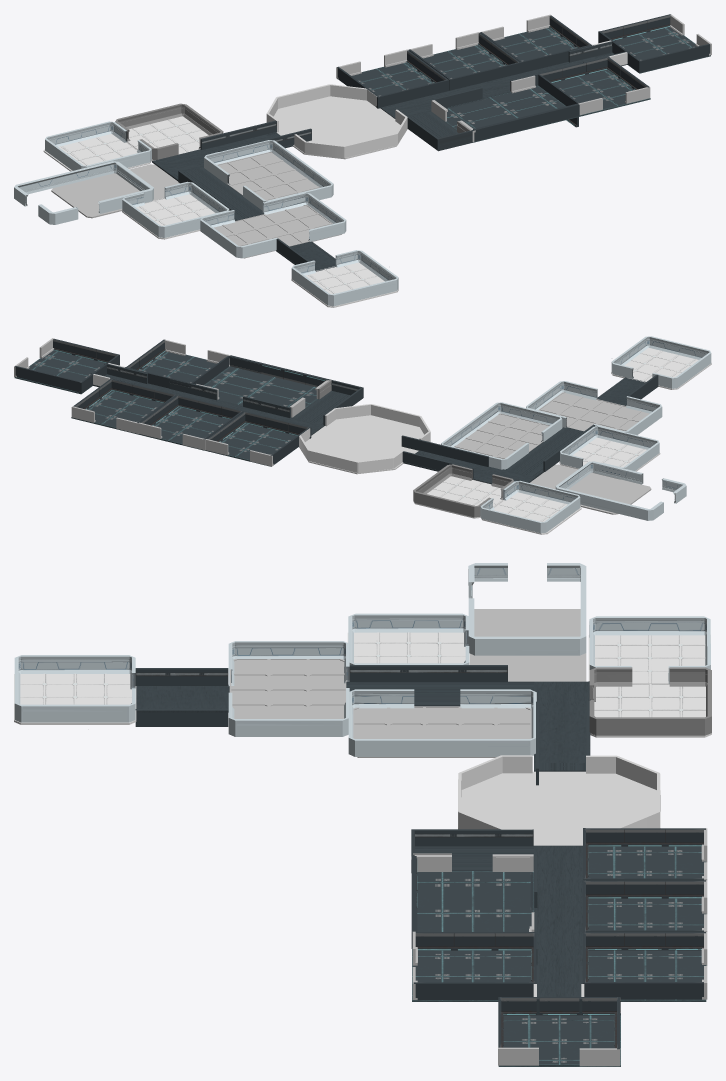
File: Level_02_Full.FBX
3 renders of one model, top to bottom at view 1: azimuth 30°, elevation 25°; view 2: azimuth 150°, elevation 25°; view 3: azimuth 270°, elevation 25°, orthographic. The views are drawn at different scales.
Parts seen in each view (by area): view 1: Box134, Box133, Labor_Wand_005, Labor_008, Labor_Boden_012, Box149, Labor_Boden_011, Labor_Boden_006, Flur_Boden_005, Flur_Boden_004, Labor_007, Box157 (+24 smaller); view 2: Box134, Box149, Box133, Labor_Wand_005, Labor_Boden_011, Labor_Boden_012, Flur_Boden_005, Labor_004, Labor_007, Labor_Boden_006, Box157, Labor_006 (+25 smaller); view 3: Box134, Flur_Boden_004, Box149, Flur_Boden_005, Labor_Boden_012, Labor_007, Labor_Boden_011, Labor_Boden_006, Labor_006, Labor_008, Box154, Box152 (+23 smaller).
Part boxes in pixels (<box>): Box134: <box>273,96,407,159</box>; Box133: <box>266,84,407,157</box>; Labor_Wand_005: <box>14,161,153,224</box>; Labor_008: <box>200,192,346,258</box>; Labor_Boden_012: <box>214,205,341,258</box>; Box149: <box>446,85,579,142</box>; Labor_Boden_011: <box>217,152,319,200</box>; Labor_Boden_006: <box>51,164,179,218</box>; Flur_Boden_005: <box>152,132,293,220</box>; Flur_Boden_004: <box>380,52,627,151</box>; Labor_007: <box>204,140,333,210</box>; Box157: <box>598,14,711,72</box>; Box134: <box>299,415,423,474</box>; Box149: <box>204,366,317,407</box>; Box133: <box>299,404,430,472</box>; Labor_Wand_005: <box>555,461,686,520</box>; Labor_Boden_011: <box>454,413,549,458</box>; Labor_Boden_012: <box>538,392,649,431</box>; Flur_Boden_005: <box>403,427,583,484</box>; Labor_004: <box>480,480,580,533</box>; Labor_007: <box>441,402,562,469</box>; Labor_Boden_006: <box>530,464,651,514</box>; Box157: <box>14,338,119,393</box>; Labor_006: <box>611,336,711,388</box>; Box134: <box>458,771,660,845</box>; Flur_Boden_004: <box>415,845,582,996</box>; Box149: <box>416,871,533,931</box>; Flur_Boden_005: <box>346,681,590,771</box>; Labor_Boden_012: <box>229,659,347,718</box>; Labor_007: <box>348,689,536,756</box>; Labor_Boden_011: <box>353,706,531,757</box>; Labor_Boden_006: <box>470,609,586,681</box>; Labor_006: <box>14,655,135,722</box>; Labor_008: <box>228,641,349,736</box>; Box154: <box>583,931,707,999</box>; Box152: <box>412,931,536,999</box>.
Size of the model in its own units: 188 by 6.07 by 114.
